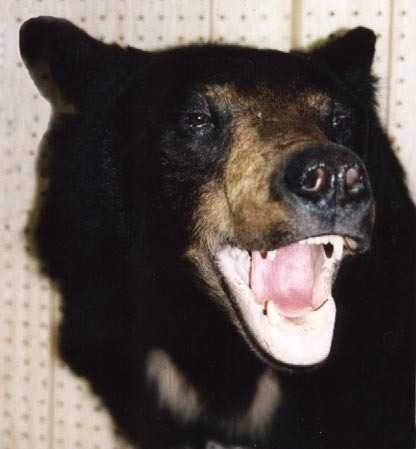bear: (244, 142, 372, 270), (11, 9, 139, 137), (273, 8, 401, 136), (143, 54, 271, 182)
